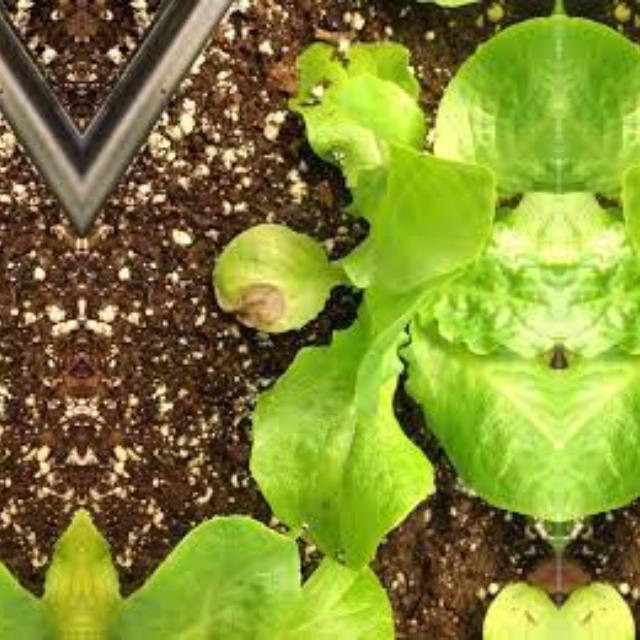Lettuce - Anthracnose: (214, 228, 334, 332)
